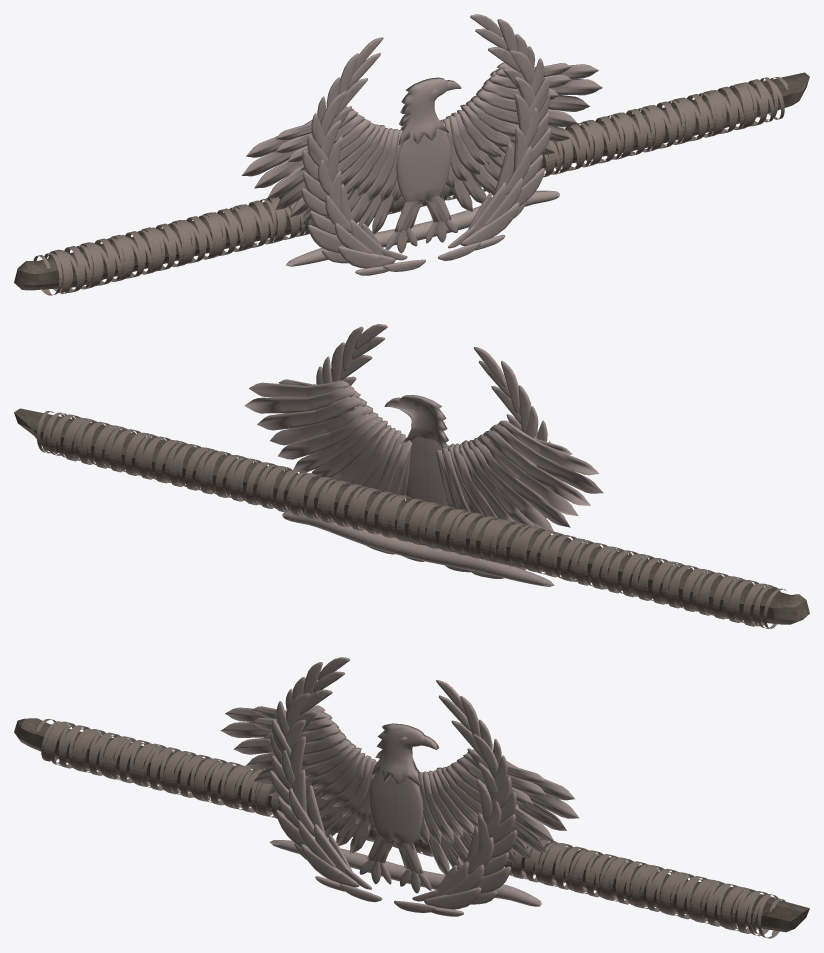
The model's file is palka_8.glb.
3 renders of one model, top to bottom at view 1: azimuth 30°, elevation 25°; view 2: azimuth 150°, elevation 25°; view 3: azimuth 330°, elevation 25°, orthographic.
Visible parts, largest first — view 1: palka_8; view 2: palka_8; view 3: palka_8.
Boxes of the visible parts, x1,y1,x2,y2 form: palka_8: (14, 14, 809, 295); palka_8: (14, 324, 809, 628); palka_8: (14, 657, 809, 938).
Bounding box in the file's own units: 84.6 × 23.88 × 6.39.
8 materials, 1 textured.
